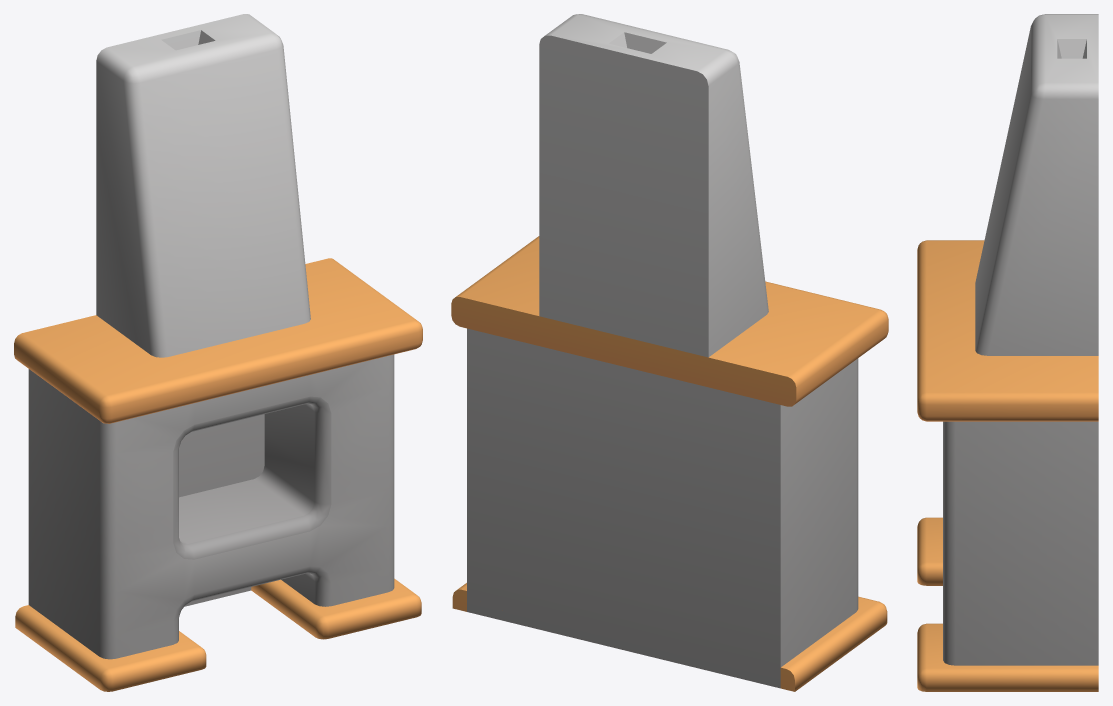
Rendered from Fireplace_12.glb.
3 renders of one model, left to right at view 1: azimuth 30°, elevation 25°; view 2: azimuth 150°, elevation 25°; view 3: azimuth 270°, elevation 25°, orthographic. The views are drawn at different scales.
Parts seen in each view (by area): view 1: Fireplace_12; view 2: Fireplace_12; view 3: Fireplace_12.
Boxes of the visible parts, bbox=[...] form: Fireplace_12: bbox=[14, 14, 422, 691]; Fireplace_12: bbox=[451, 14, 888, 691]; Fireplace_12: bbox=[917, 14, 1098, 691].
Bounding box in the file's own units: 1.21 × 2 × 0.5825.
1 material, 1 textured.
